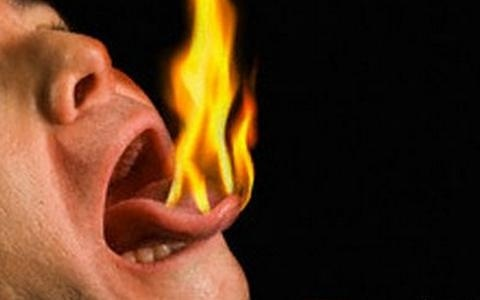fire: (159, 1, 262, 208)
